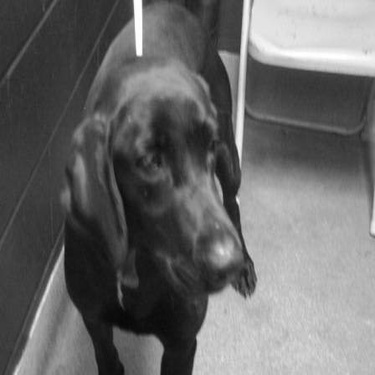dog: (52, 2, 262, 373)
